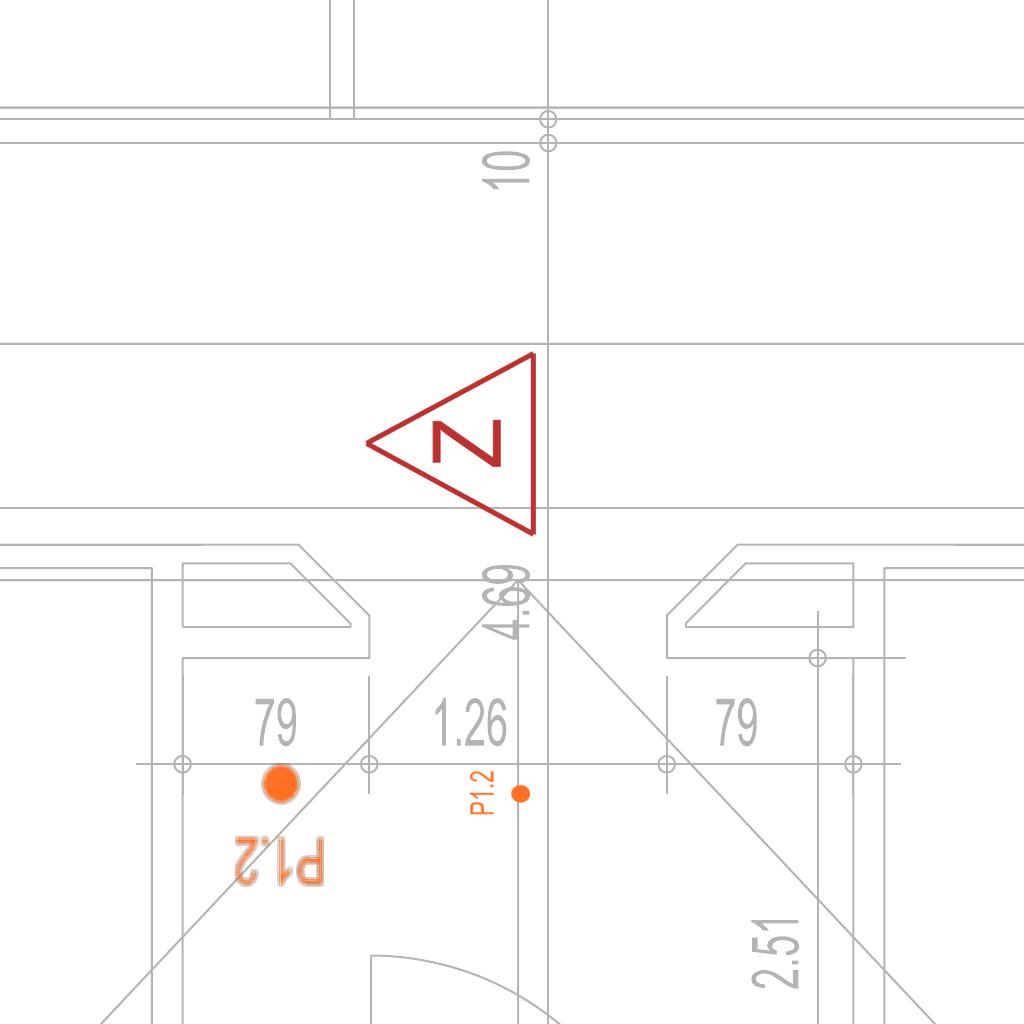Downlight_LED_Einbauleuchten_Flur: (233, 761, 326, 889), (468, 770, 532, 816)
Zimmersignalleuchte: (351, 348, 551, 544)
